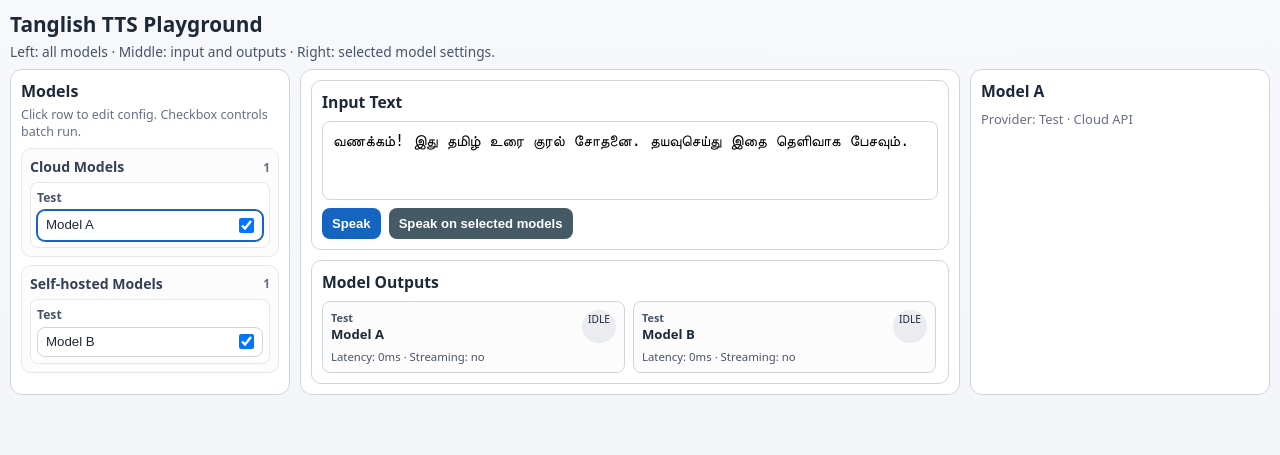
it: Batch synthesis partial failures › shows success audio and error independently per model
Expected: the text "Model A" is shown, [46,217,94,232]
Expected: the text "Model B" is shown, [46,334,95,349]
Click the button "Speak on selected models" at (481, 224), box [389,208,572,239]
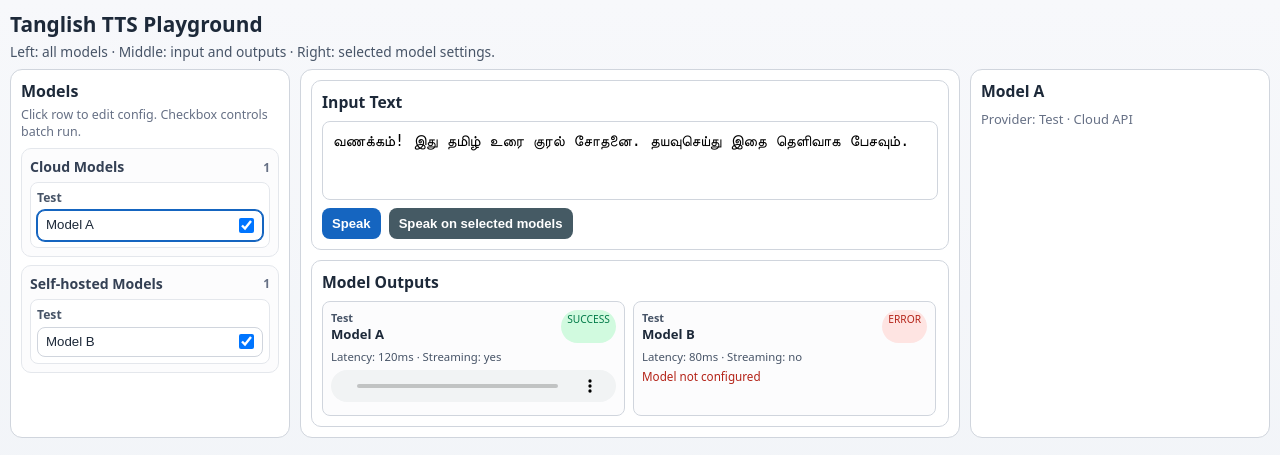
Expected: the text "Model not configured" is shown, [642,369,761,384]
